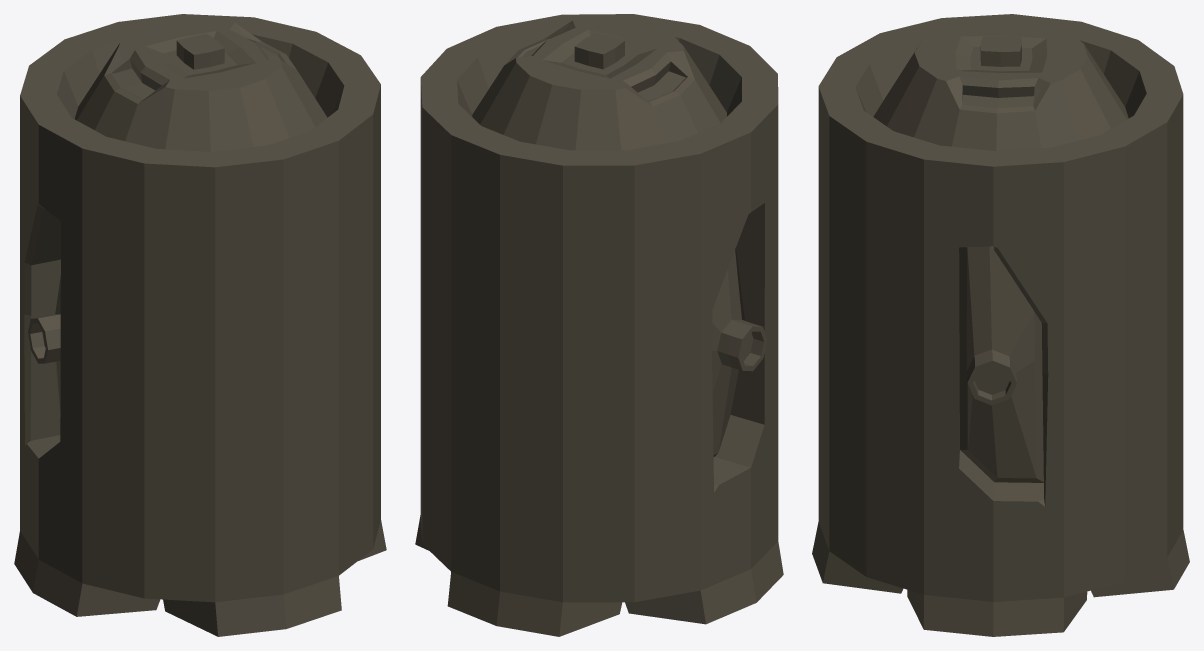
Rendered from SM_metal_support_06.fbx.
3 renders of one model, left to right at view 1: azimuth 30°, elevation 25°; view 2: azimuth 150°, elevation 25°; view 3: azimuth 270°, elevation 25°, orthographic.
Visible parts, largest first — view 1: metal_support_06; view 2: metal_support_06; view 3: metal_support_06.
Boxes of the visible parts, x1,y1,x2,y2 form: metal_support_06: (14, 14, 386, 636); metal_support_06: (415, 14, 783, 636); metal_support_06: (812, 14, 1189, 636).
Size of the model in its own units: 46.5 by 70.49 by 46.94.
